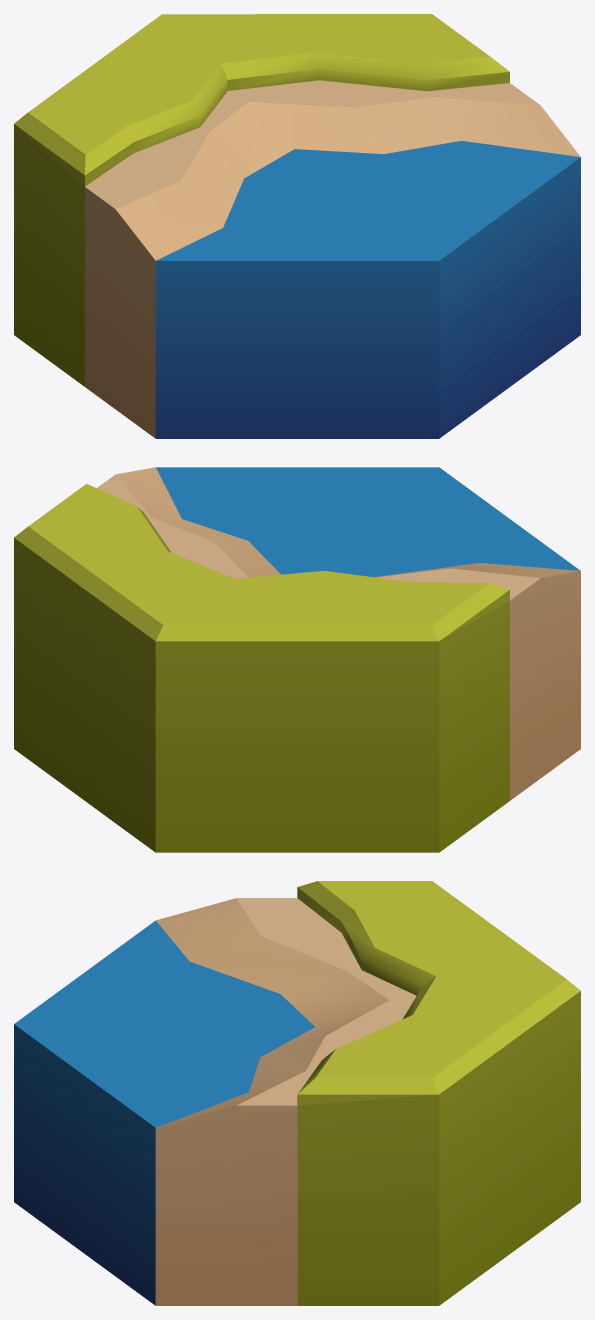
File: kaykit-medieval-hexagon-pack-hex-coast-b.glb
3 renders of one model, top to bottom at view 1: azimuth 30°, elevation 25°; view 2: azimuth 150°, elevation 25°; view 3: azimuth 270°, elevation 25°, orthographic.
Visible parts, largest first — view 1: hex_coast_B; view 2: hex_coast_B; view 3: hex_coast_B.
Part boxes in pixels (x1,y1,x2,y2): hex_coast_B: (14, 14, 580, 438); hex_coast_B: (14, 467, 580, 852); hex_coast_B: (14, 881, 580, 1305).
Size of the model in its own units: 2 by 1 by 2.31.
Materials: 1 (1 with a texture image).
